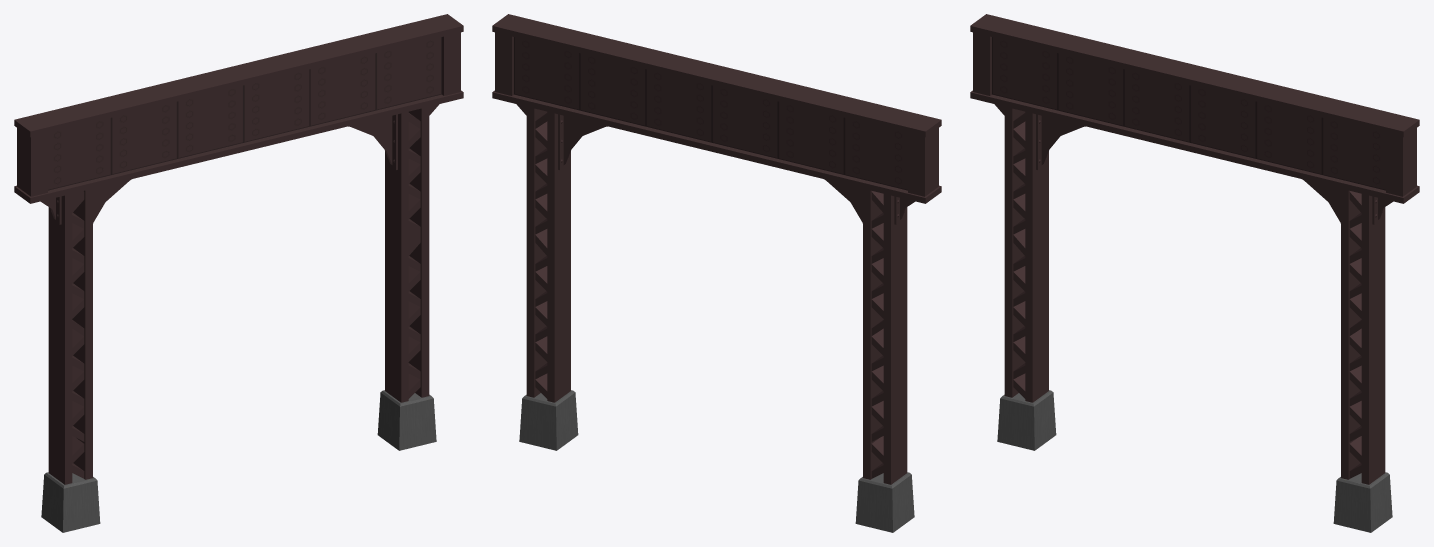
The model's file is SW_ENV_EL_TrackSupport_Double.fbx.
The picture shows the model from 3 angles, left to right: view 1: azimuth 30°, elevation 25°; view 2: azimuth 150°, elevation 25°; view 3: azimuth 330°, elevation 25°; orthographic projection.
Parts seen in each view (by area): view 1: SW_ENV_EL_TrackSupport_Double; view 2: SW_ENV_EL_TrackSupport_Double; view 3: SW_ENV_EL_TrackSupport_Double.
Part boxes in pixels (box(x1,y1,x2,y2)): SW_ENV_EL_TrackSupport_Double: box(14, 14, 463, 532); SW_ENV_EL_TrackSupport_Double: box(492, 14, 941, 532); SW_ENV_EL_TrackSupport_Double: box(970, 14, 1419, 532).
Bounding box in the file's own units: 1160 × 1040 × 100.
